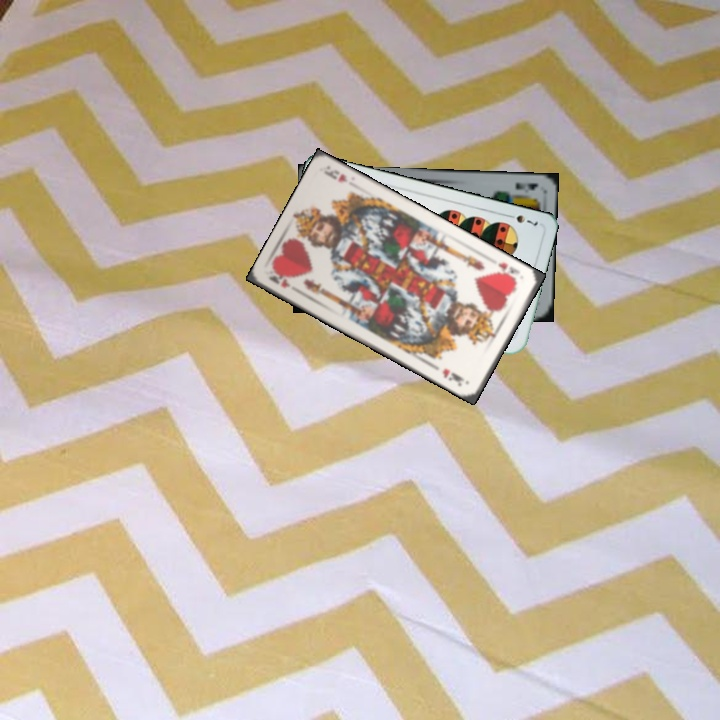EK: (511, 178, 540, 193)
HK: (493, 258, 523, 285), (265, 267, 293, 290)
S7: (502, 210, 541, 229)
